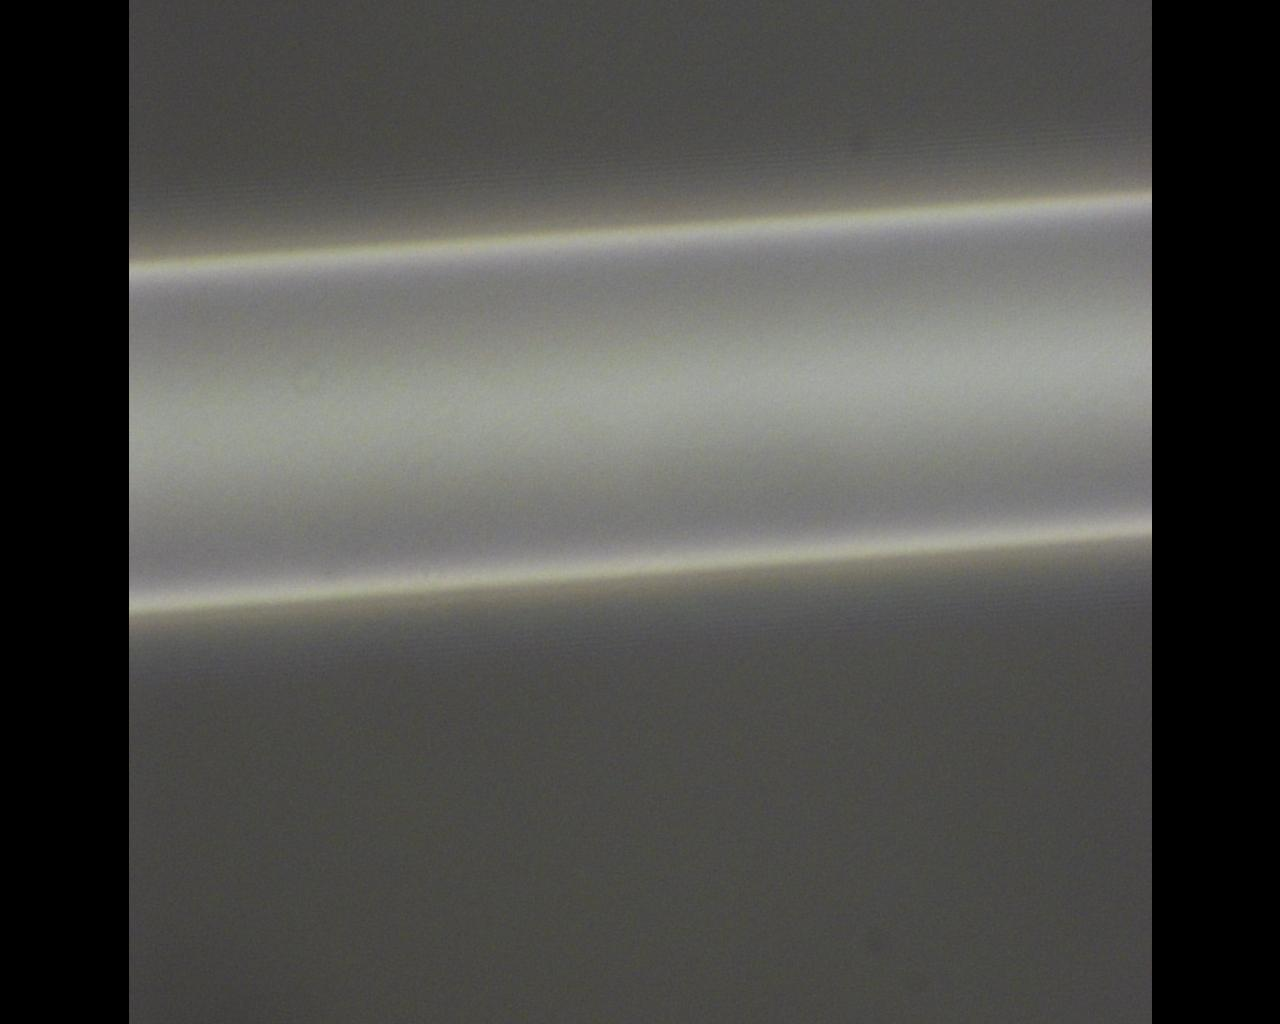fiber: (127, 184, 1151, 619)
